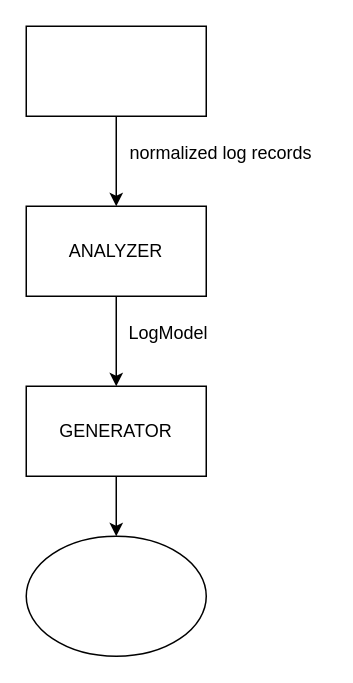
The diagram is 353 pixels wide and 683 high, and some of its shapes have lost their labels. The centre of each missing label's shape, as x and y in pixels:
Generated log: pixel 115 595
INGESTOR: pixel 115 70
